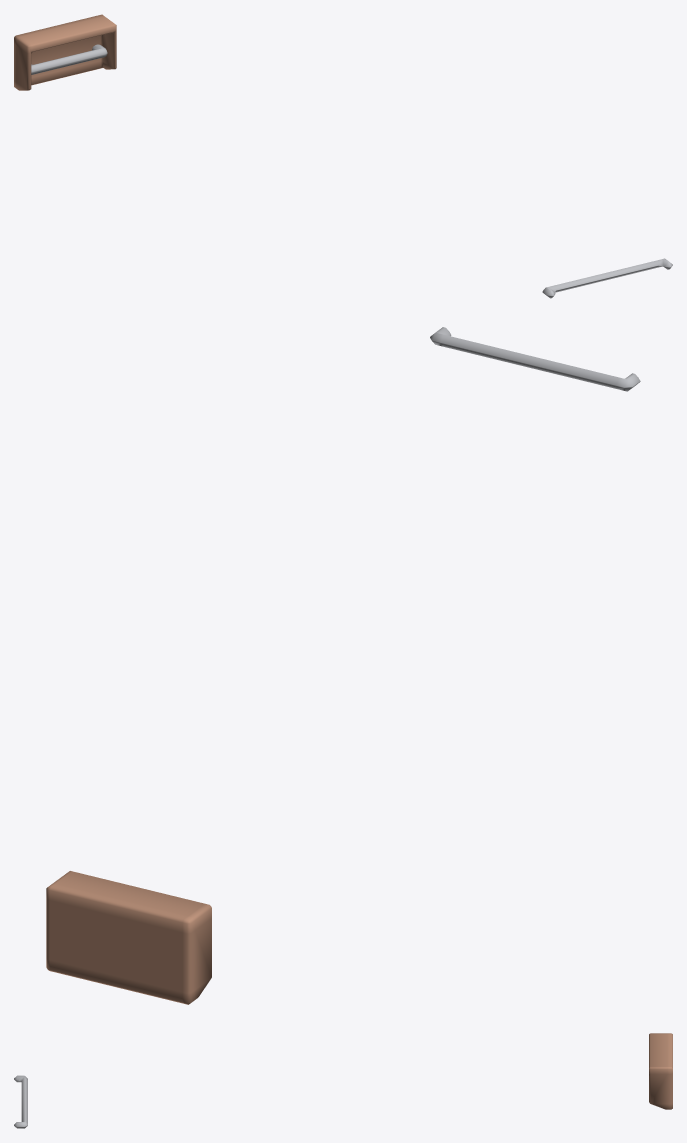
Rendered from Towel_racks.fbx.
3 renders of one model, top to bottom at view 1: azimuth 30°, elevation 25°; view 2: azimuth 150°, elevation 25°; view 3: azimuth 270°, elevation 25°, orthographic. The views are drawn at different scales.
Parts seen in each view (by area): view 1: Bathroom_floating_shelf.002, Shower_towel_rack, Sink_towel_rack; view 2: Bathroom_floating_shelf.002, Shower_towel_rack; view 3: Bathroom_floating_shelf.002, Shower_towel_rack.
Part boxes in pixels (x1,y1,x2,y2): Bathroom_floating_shelf.002: [14, 14, 116, 90]; Shower_towel_rack: [542, 258, 672, 298]; Sink_towel_rack: [31, 44, 107, 74]; Bathroom_floating_shelf.002: [46, 871, 211, 1004]; Shower_towel_rack: [430, 327, 640, 391]; Bathroom_floating_shelf.002: [649, 1033, 672, 1109]; Shower_towel_rack: [14, 1075, 27, 1128].
Bounding box in the file's own units: 230 × 54.65 × 645.
